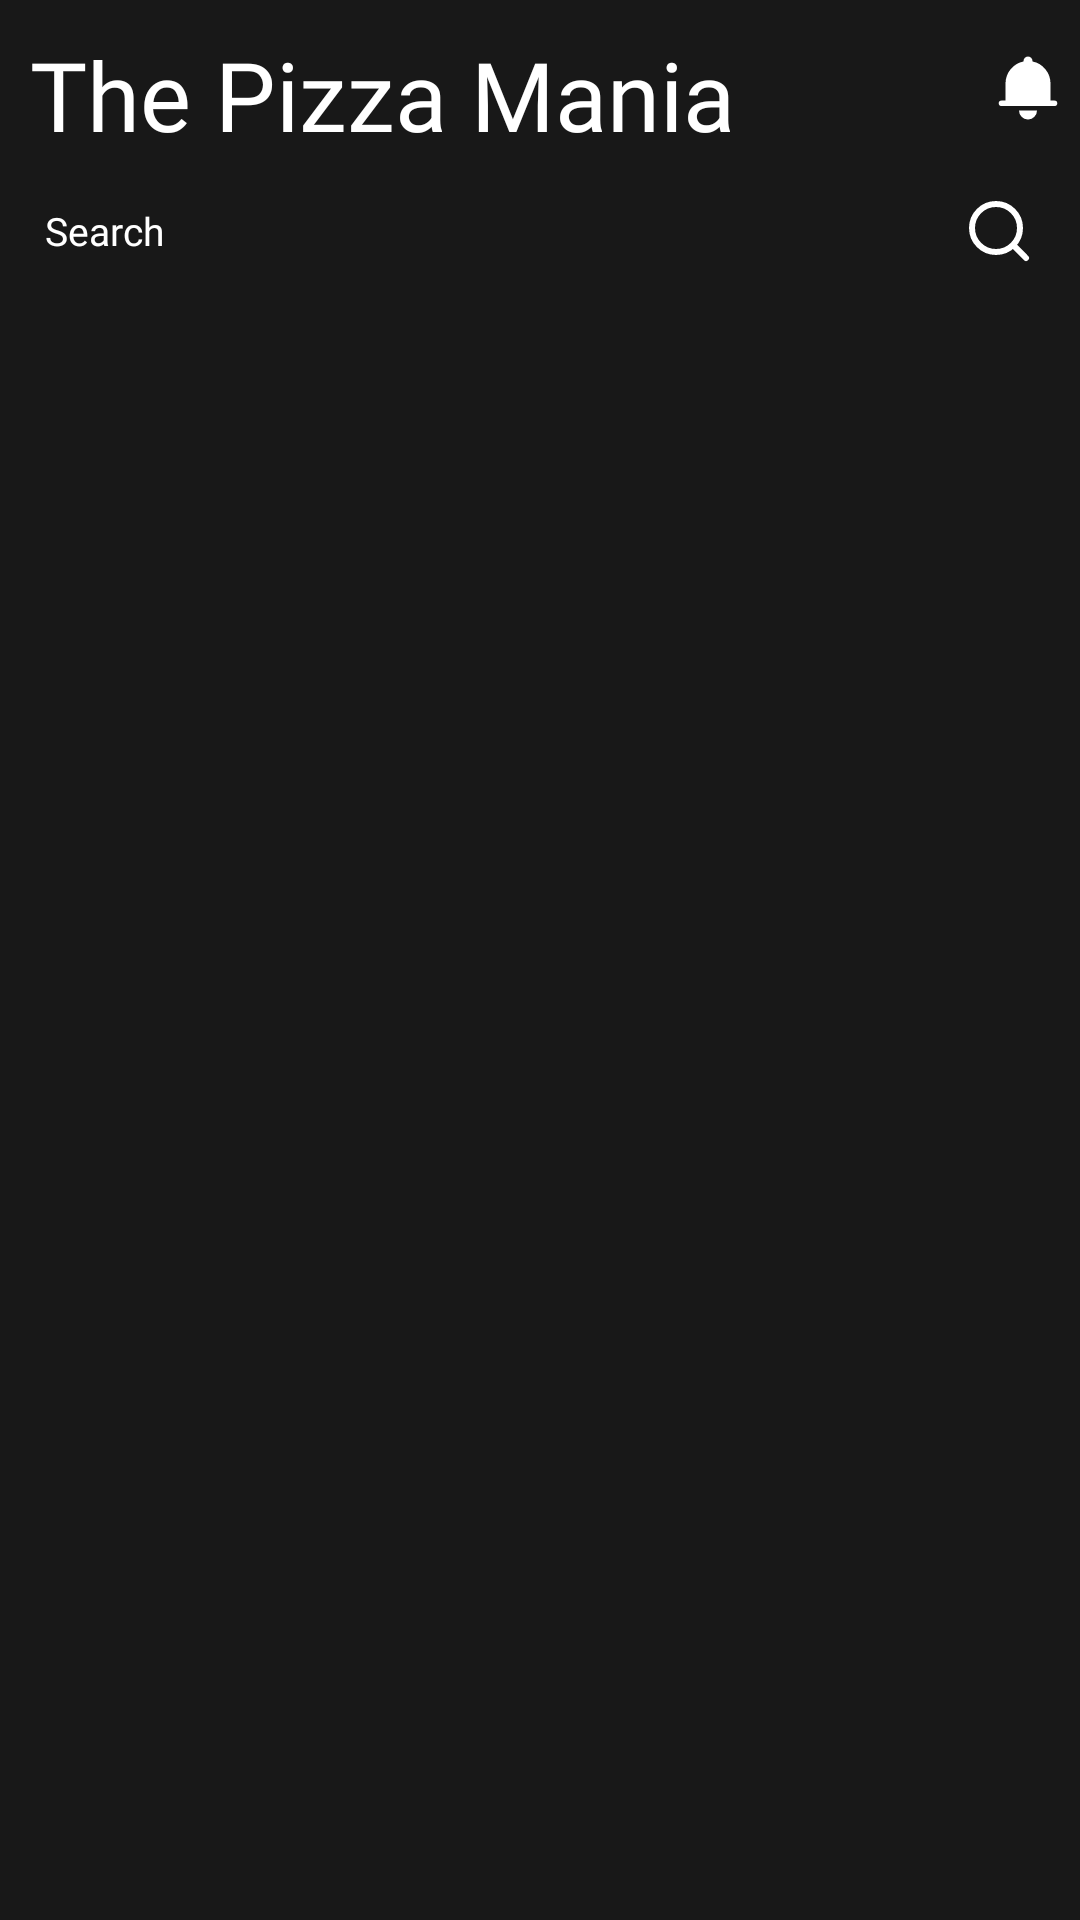

Where to tap for icons on this 1080px x 1920px app screen, as (x,y):
bell: (1028,88)
